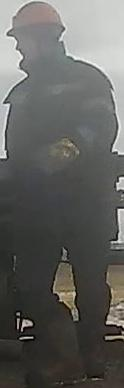gloves: (30, 133, 89, 178)
helmet: (5, 0, 65, 39)
vest: (3, 60, 116, 232)
